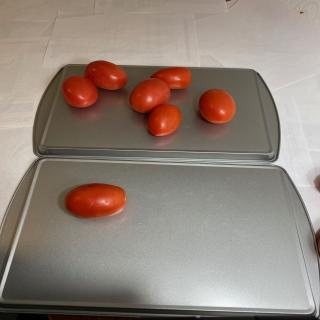Tomato: (64, 183, 126, 219), (129, 78, 171, 113), (198, 88, 236, 124), (84, 60, 127, 90), (62, 76, 98, 108), (148, 104, 182, 136), (150, 67, 192, 89)
